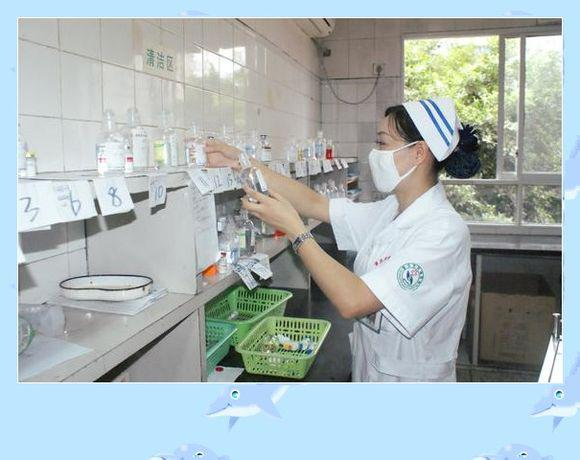OK: (368, 130, 437, 196)
